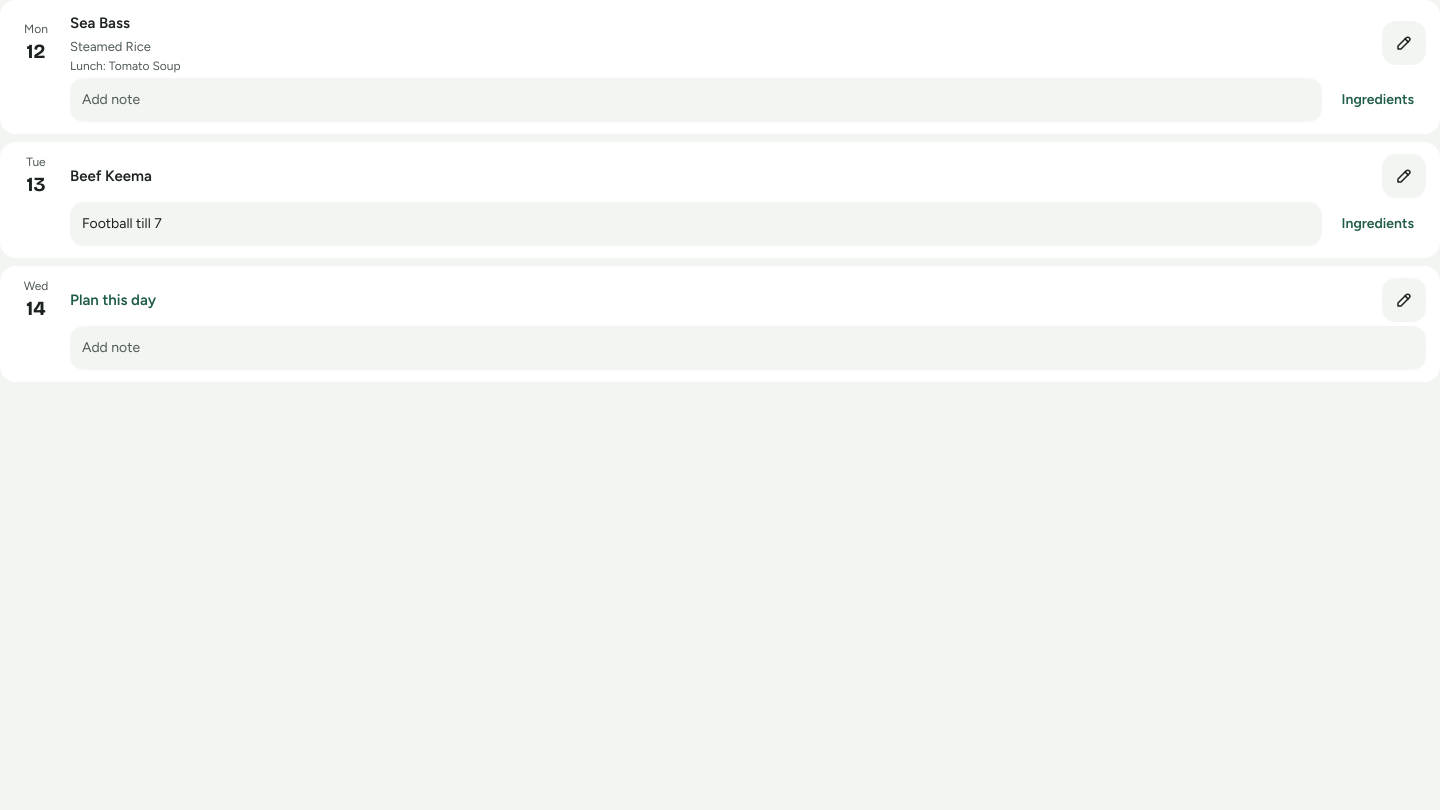
WeekList › opens a day's ingredients when the day is tapped
Click the button with aria-label "Show Monday details".
click(1378, 100)  # box [1330,78,1426,122]
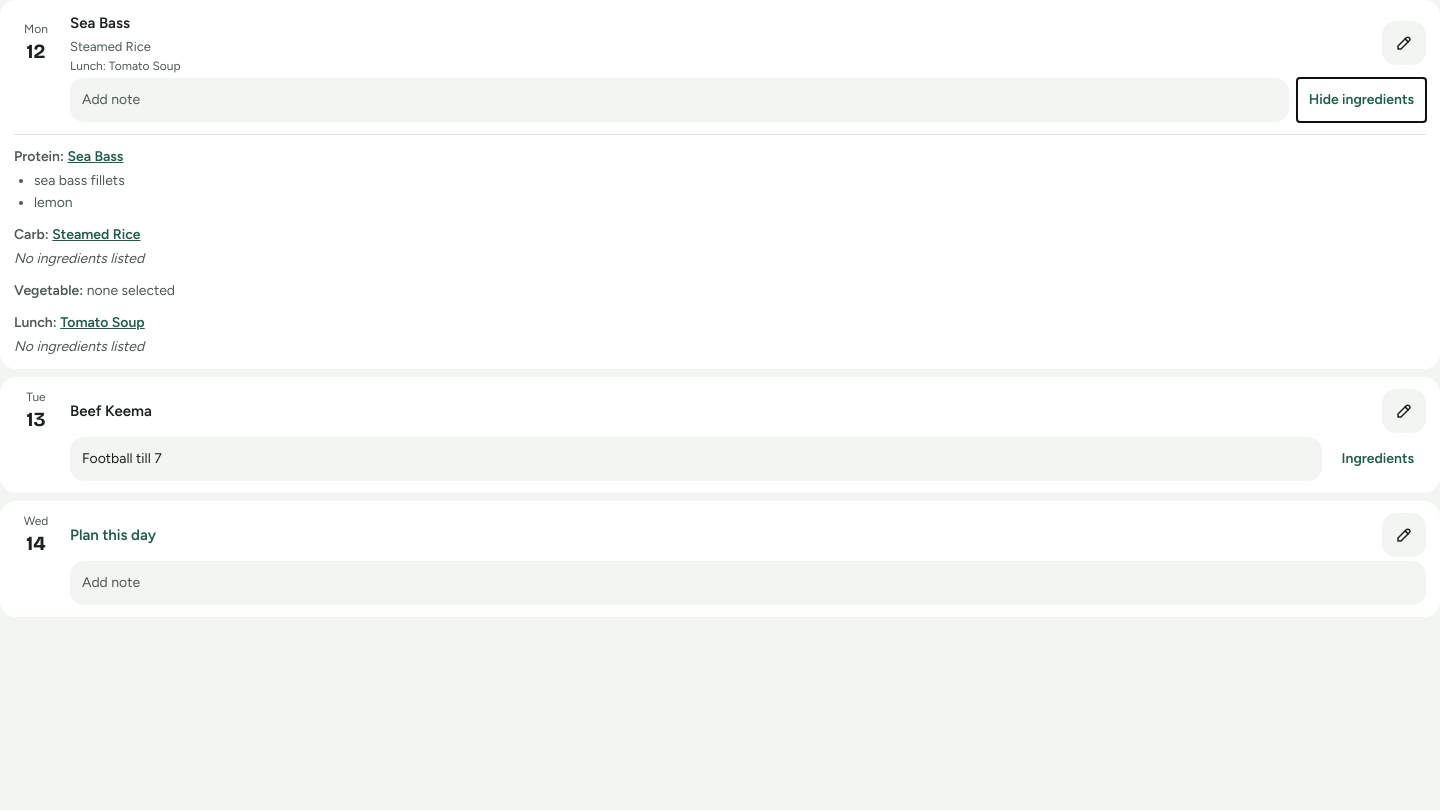
Now the element with test id "week-day-details" shows "Protein: Sea Bass", box [14,134,1426,357]
Now the element with test id "week-day-details" shows "sea bass fillets", box [34,172,125,189]
Now the element with test id "week-day-details" shows "lemon", box [34,194,73,211]
Click the button with aria-label "Hide Monday details".
click(1361, 100)  # box [1297,78,1426,122]
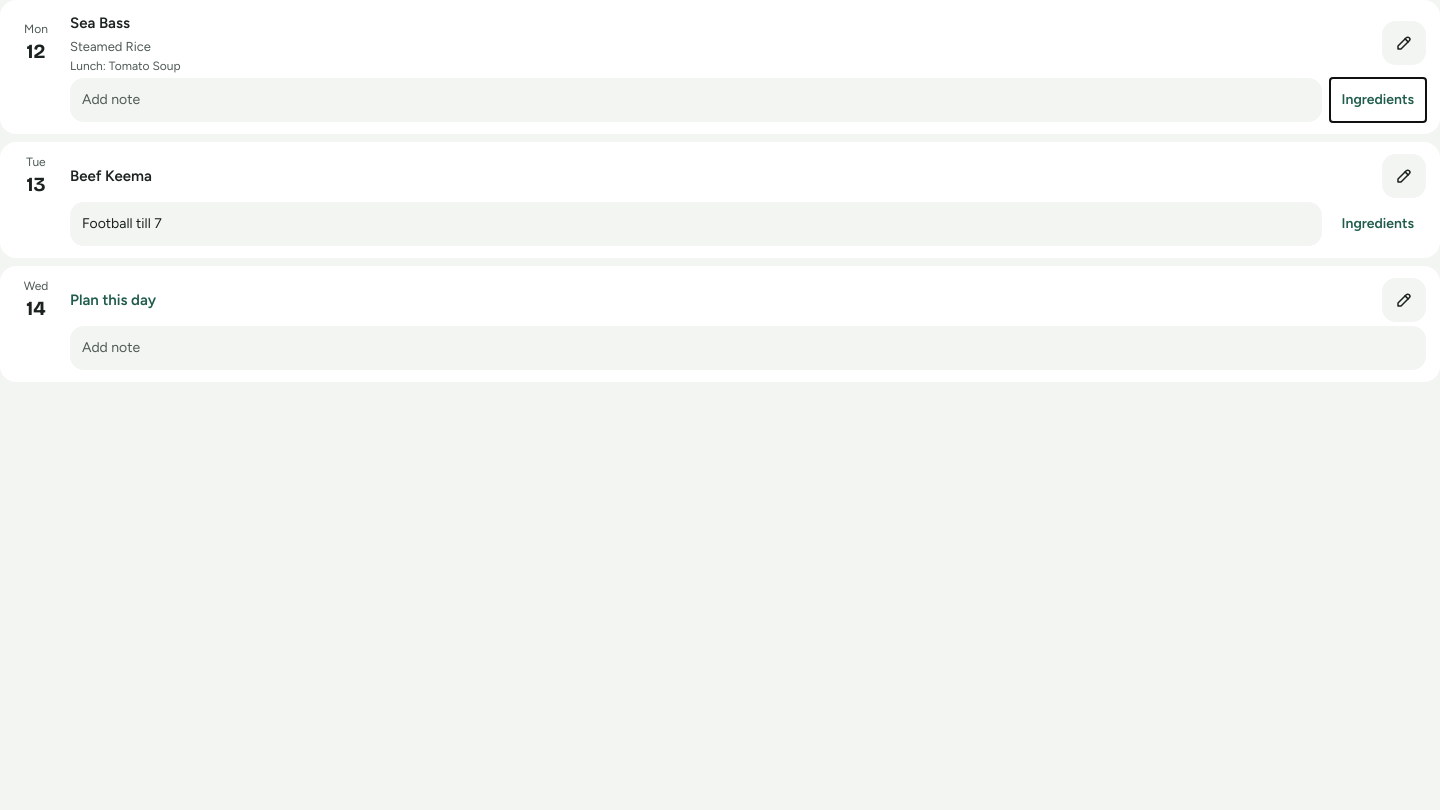
Now the element with test id "week-day-details" is gone
